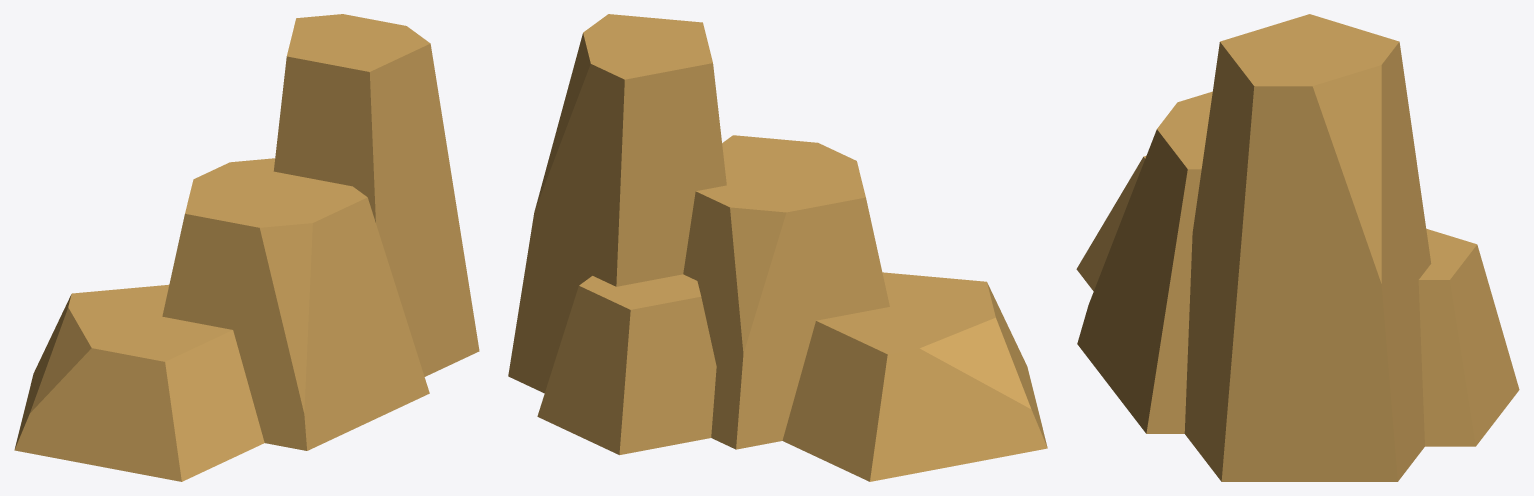
The model's file is rockC.obj.
3 views of the same model, side by side, from view 1: azimuth 30°, elevation 25°; view 2: azimuth 150°, elevation 25°; view 3: azimuth 270°, elevation 25° (orthographic). The views are drawn at different scales.
Parts seen in each view (by area): view 1: rockC; view 2: rockC; view 3: rockC.
Part boxes in pixels (<box>): rockC: <box>14,14,479,481</box>; rockC: <box>508,14,1047,481</box>; rockC: <box>1076,14,1519,481</box>.
Bounding box in the file's own units: 0.7837 × 0.51 × 0.5468.
